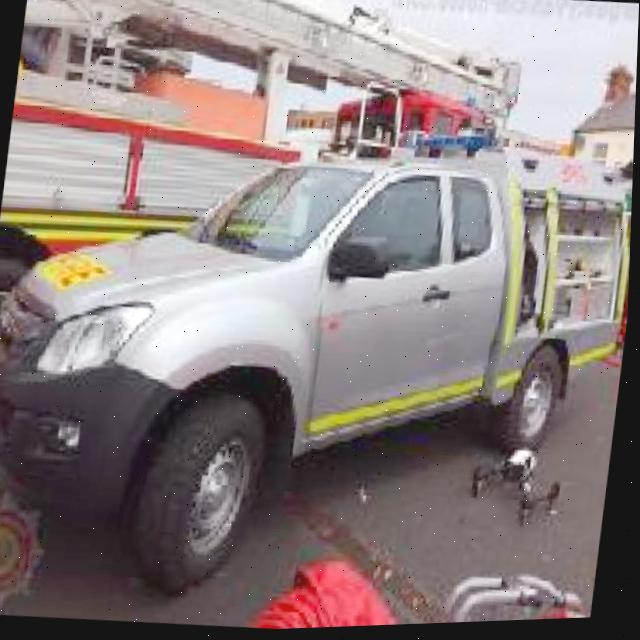emergency: (0, 94, 637, 634)
